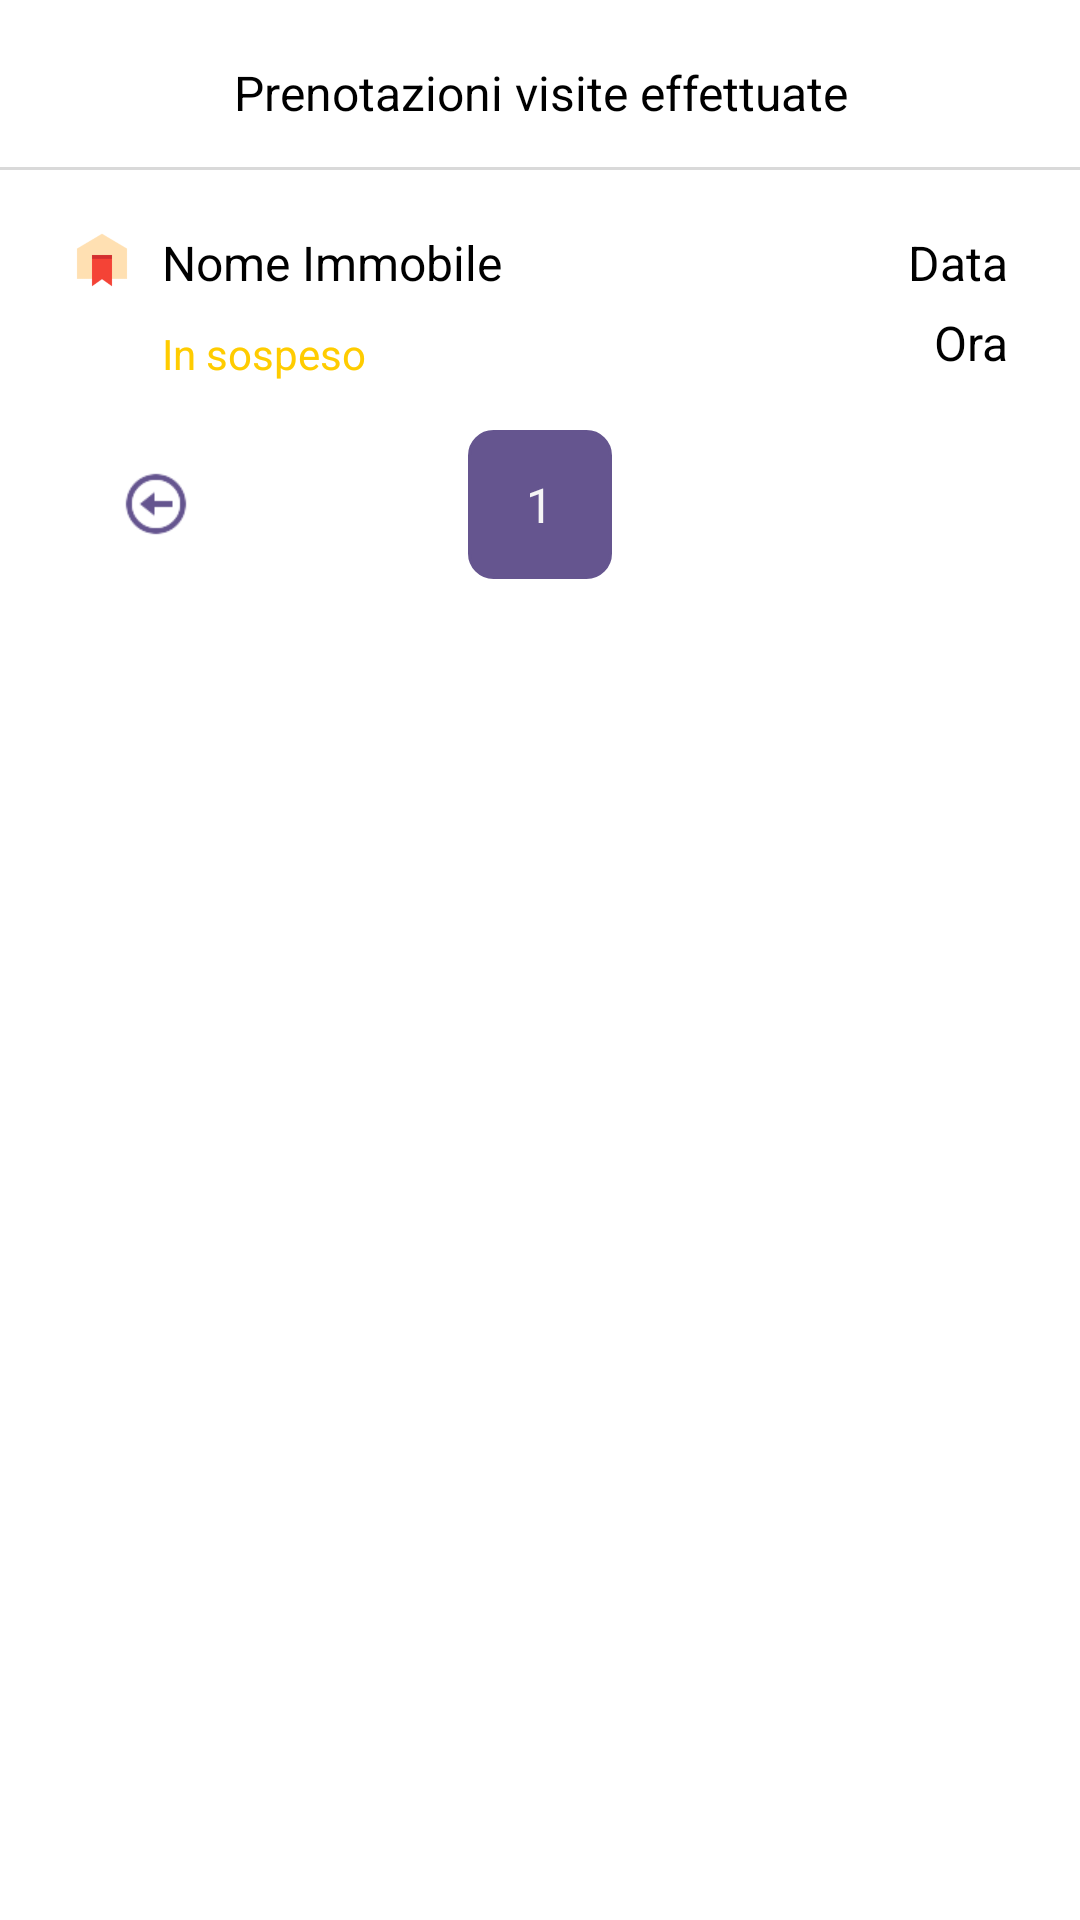

Named icons in this screenshot (1080 × 1920) and their bounding boxes, [x1, y1, x2, y2]:
left arrow: [125, 473, 187, 535]
reservation: [77, 234, 127, 286]
